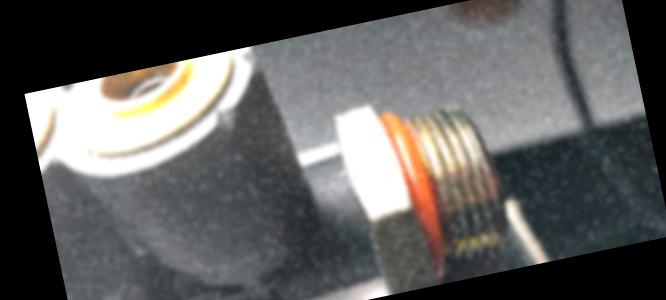bump: (211, 102, 244, 137), (236, 45, 262, 75)
white mark: (325, 165, 349, 182)
